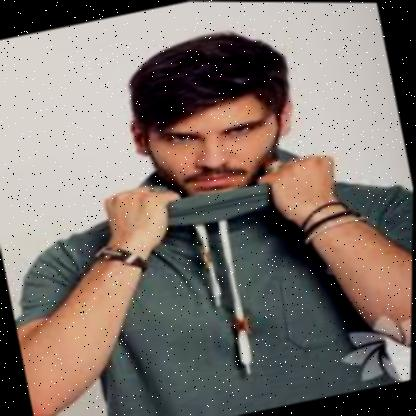person: (110, 14, 311, 212)
